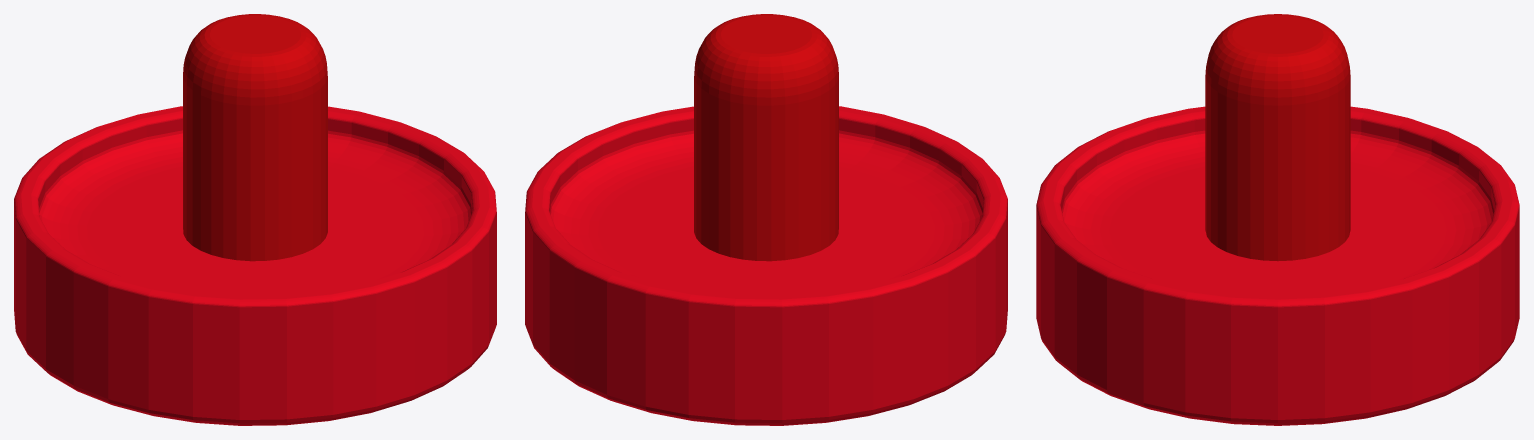
The model's file is StrikerEnemy.fbx.
3 renders of one model, left to right at view 1: azimuth 30°, elevation 25°; view 2: azimuth 150°, elevation 25°; view 3: azimuth 270°, elevation 25°, orthographic.
Parts seen in each view (by area): view 1: Ground, Handle; view 2: Ground, Handle; view 3: Ground, Handle.
Part boxes in pixels (left/top/right/bottom): Ground: left=14, top=106, right=496, bottom=425; Handle: left=183, top=14, right=327, bottom=261; Ground: left=525, top=106, right=1007, bottom=425; Handle: left=694, top=14, right=838, bottom=261; Ground: left=1036, top=106, right=1519, bottom=425; Handle: left=1205, top=14, right=1350, bottom=261.
Size of the model in its own units: 400 by 276 by 400.
